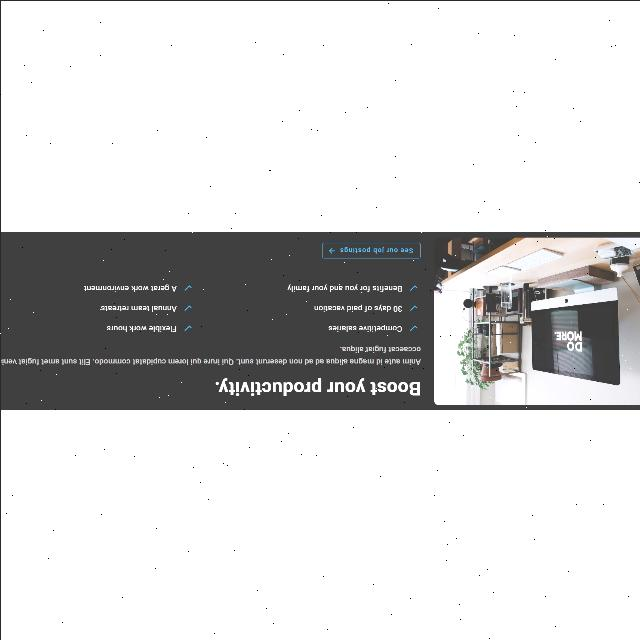QLabel: (1, 344, 422, 364), (214, 376, 420, 396), (286, 283, 402, 291), (313, 302, 403, 312), (81, 284, 179, 292), (328, 322, 402, 332), (100, 304, 178, 312), (105, 324, 179, 332), (340, 245, 412, 253)
VBtn: (320, 240, 420, 258)
VIcon: (408, 324, 417, 330), (183, 304, 191, 310), (183, 324, 191, 330), (183, 284, 190, 290), (409, 304, 416, 310), (409, 284, 416, 290), (328, 247, 334, 253)
VImg: (432, 234, 640, 406)
